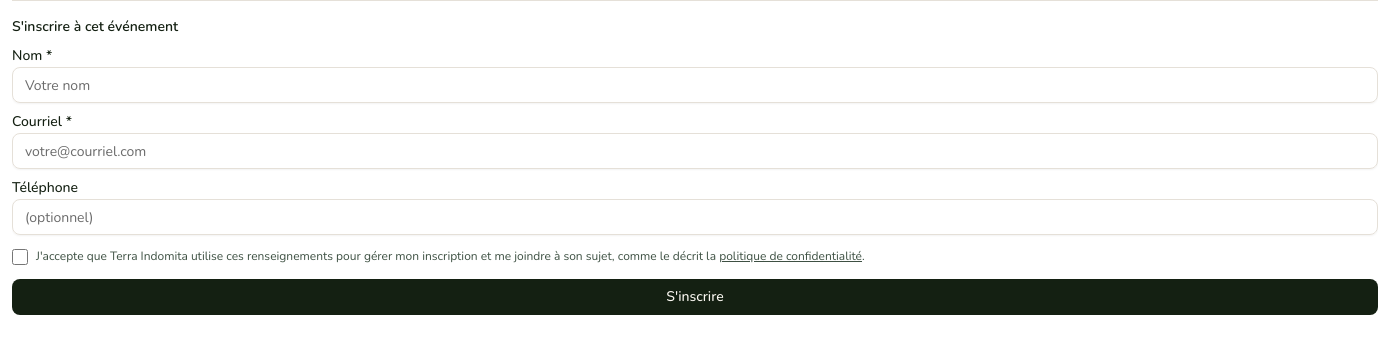
Test: RegistrationForm › shows the server's reason when the registration is refused
Type "Jean Test" into the field with placeholder "Votre nom" at coordinates (695, 85), box [12,67,1378,103]
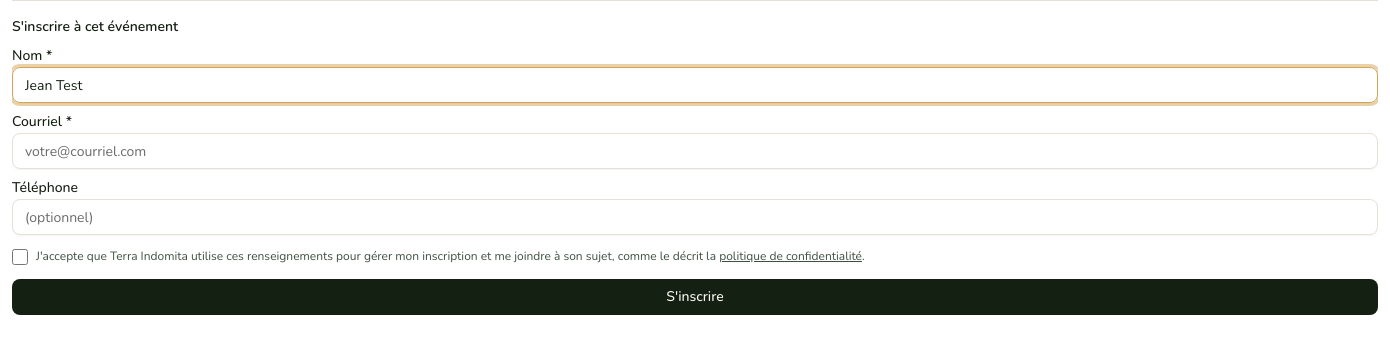
Type "jean@test.com" into the field with placeholder "votre@courriel.com" at coordinates (695, 151), box [12,133,1378,169]
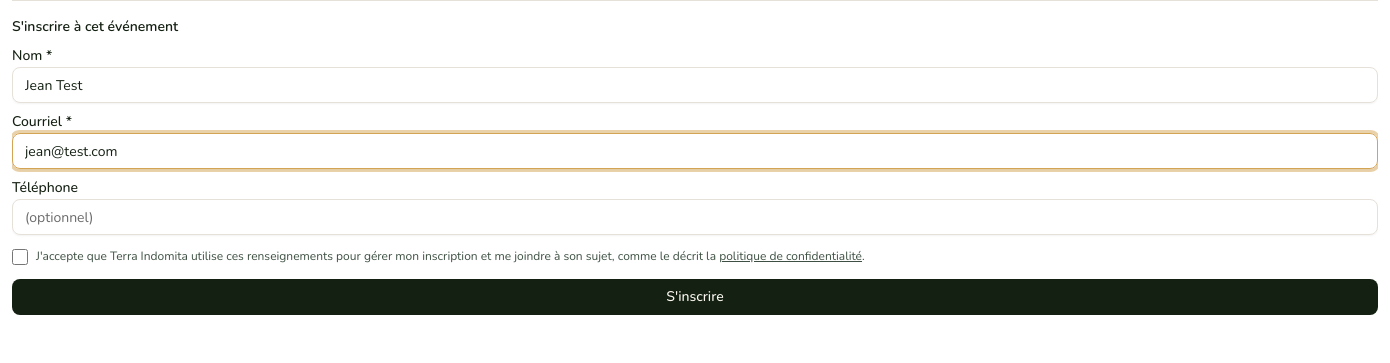
Click the checkbox at coordinates (20, 257), box [12,249,28,265]
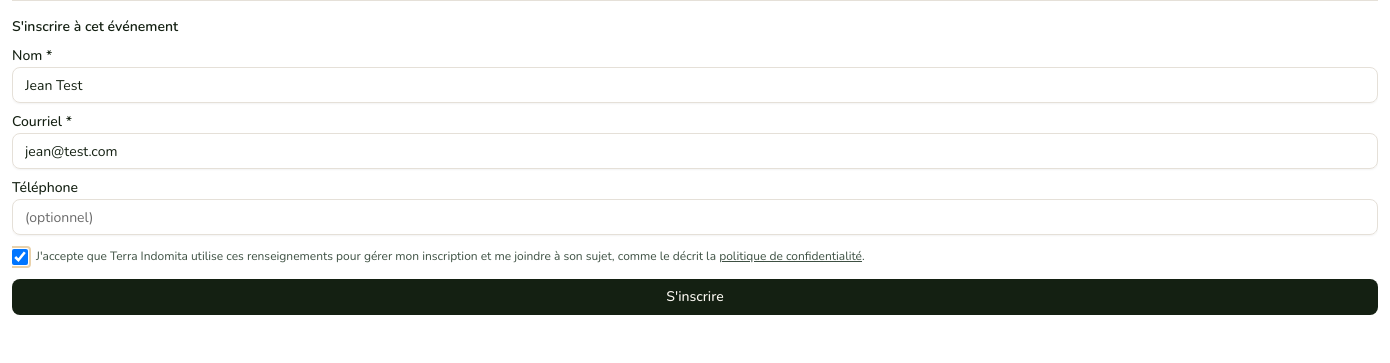
Click the button "S'inscrire" at coordinates (695, 296), box [12,278,1378,314]
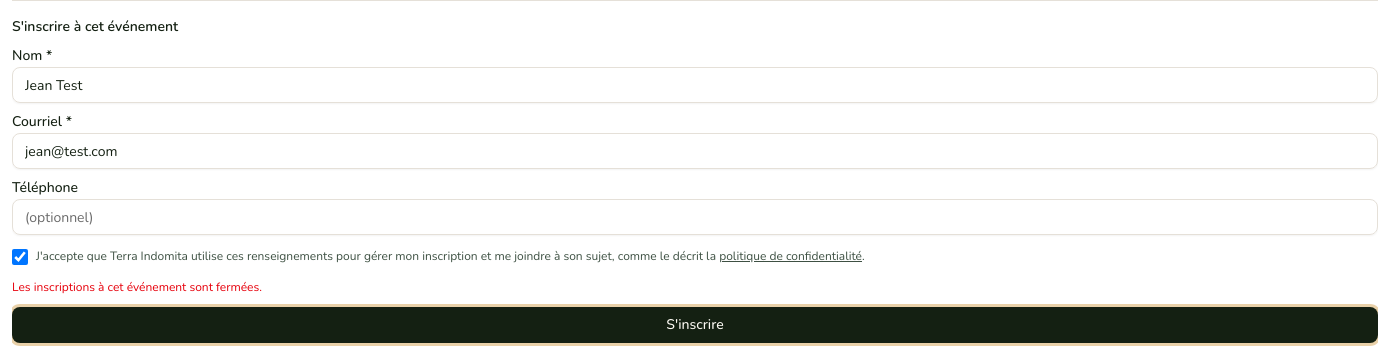
Now the message shows "inscriptions à cet événement sont fermées", box [12,278,262,294]
